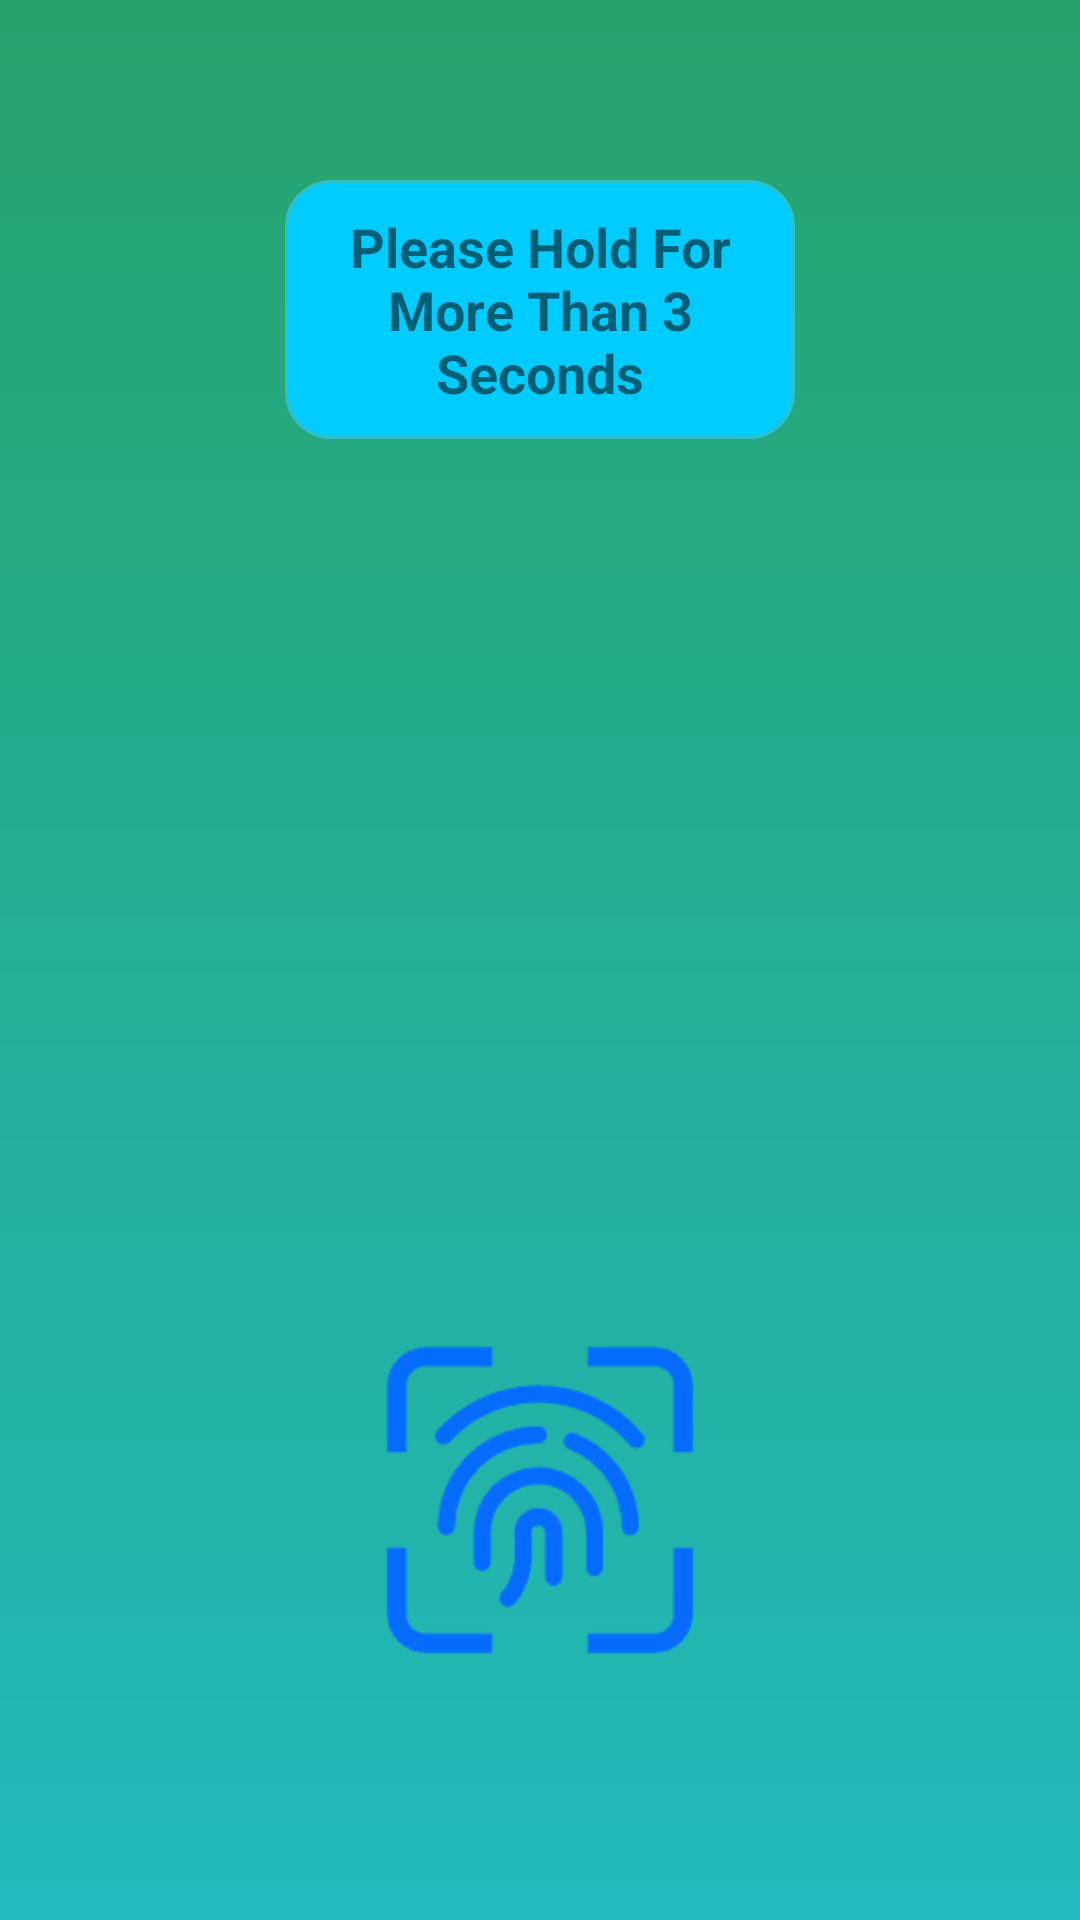

Icons on this 1080 x 1920 Android screen, each with the point to tap as point (x, y):
zhiwen: point (540, 1500)
